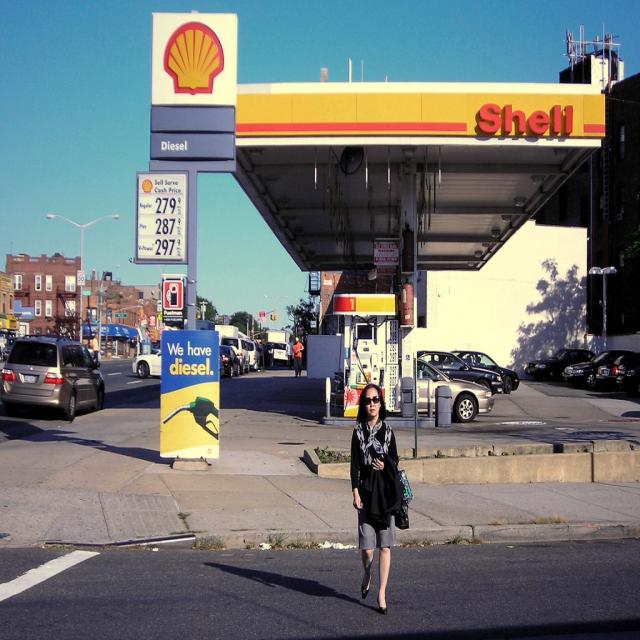shell: (164, 19, 226, 97), (142, 182, 153, 194)
